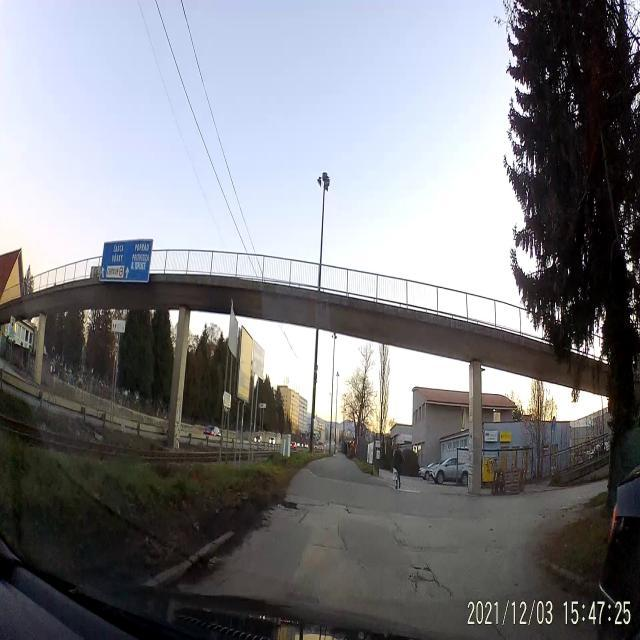Pothole: (407, 558, 452, 596), (276, 497, 300, 517)
